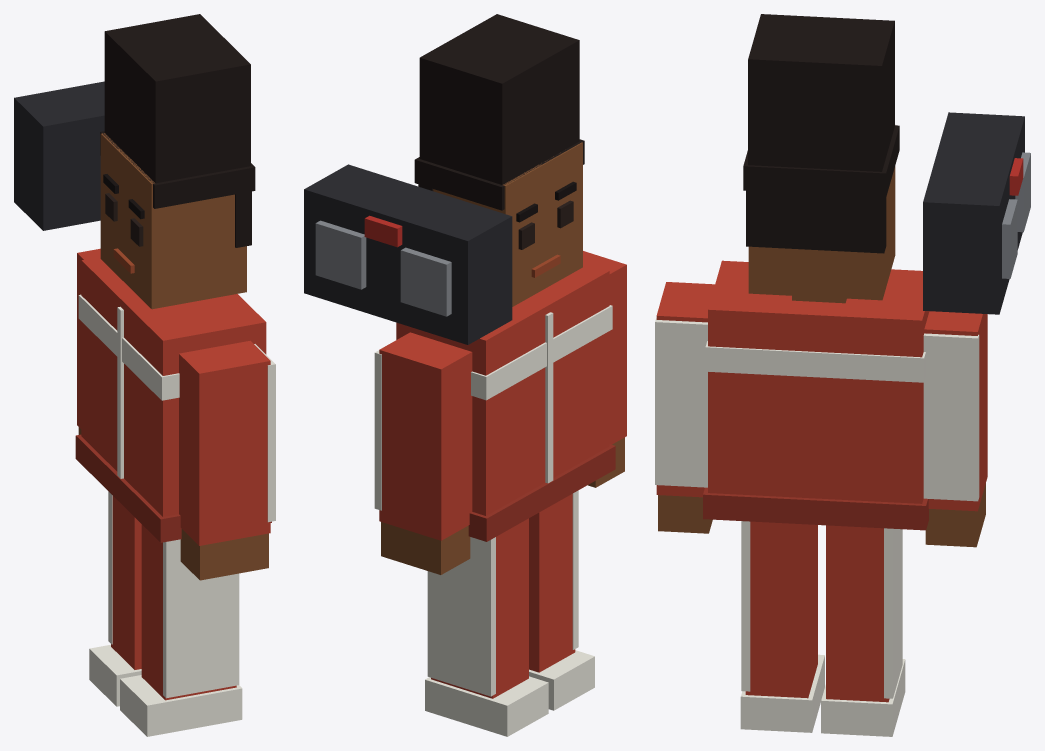
File: teen_boombox_1.glb
3 renders of one model, left to right at view 1: azimuth 30°, elevation 25°; view 2: azimuth 150°, elevation 25°; view 3: azimuth 270°, elevation 25°, orthographic. The views are drawn at different scales.
Parts seen in each view (by area): view 1: Box24, Box13, Box4, Box18, Box27, Box2, Box3, Box7, Box1, Box6, Box16, Box25 (+7 smaller); view 2: Box13, Box24, Box27, Box10, Box8, Box18, Box1, Box7, Box9, Box16, Box4, Box14 (+10 smaller); view 3: Box13, Box24, Box27, Box1, Box7, Box11, Box5, Box26, Box18, Box16, Box14, Box25 (+10 smaller).
Part boxes in pixels (x1=…): Box24: x1=104, y1=14, x2=250, y2=183; Box13: x1=81, y1=257, x2=266, y2=516; Box4: x1=179, y1=340, x2=270, y2=545; Box18: x1=100, y1=133, x2=246, y2=309; Box27: x1=14, y1=81, x2=104, y2=230; Box2: x1=163, y1=539, x2=239, y2=698; Box3: x1=120, y1=675, x2=242, y2=736; Box7: x1=111, y1=496, x2=141, y2=669; Box1: x1=141, y1=524, x2=236, y2=700; Box6: x1=180, y1=529, x2=268, y2=580; Box16: x1=75, y1=434, x2=271, y2=542; Box25: x1=100, y1=131, x2=255, y2=208; Box13: x1=396, y1=262, x2=609, y2=515; Box24: x1=419, y1=14, x2=579, y2=184; Box27: x1=304, y1=164, x2=512, y2=344; Box10: x1=379, y1=332, x2=472, y2=540; Box8: x1=427, y1=537, x2=495, y2=696; Box18: x1=433, y1=142, x2=582, y2=306; Box1: x1=529, y1=494, x2=575, y2=672; Box7: x1=431, y1=518, x2=528, y2=698; Box9: x1=425, y1=676, x2=548, y2=736; Box16: x1=468, y1=444, x2=615, y2=541; Box4: x1=583, y1=251, x2=626, y2=444; Box14: x1=471, y1=305, x2=612, y2=400; Box13: x1=708, y1=260, x2=929, y2=503; Box24: x1=748, y1=14, x2=894, y2=171; Box27: x1=923, y1=112, x2=1024, y2=314; Box1: x1=745, y1=521, x2=817, y2=698; Box7: x1=826, y1=525, x2=889, y2=702; Box11: x1=923, y1=333, x2=979, y2=501; Box5: x1=655, y1=318, x2=707, y2=487; Box26: x1=746, y1=191, x2=886, y2=253; Box18: x1=748, y1=166, x2=895, y2=300; Box16: x1=703, y1=487, x2=928, y2=530; Box14: x1=705, y1=341, x2=925, y2=382; Box25: x1=743, y1=125, x2=899, y2=197.
Bounding box in the file's own units: 0.5179 × 1.74 × 0.8783.
